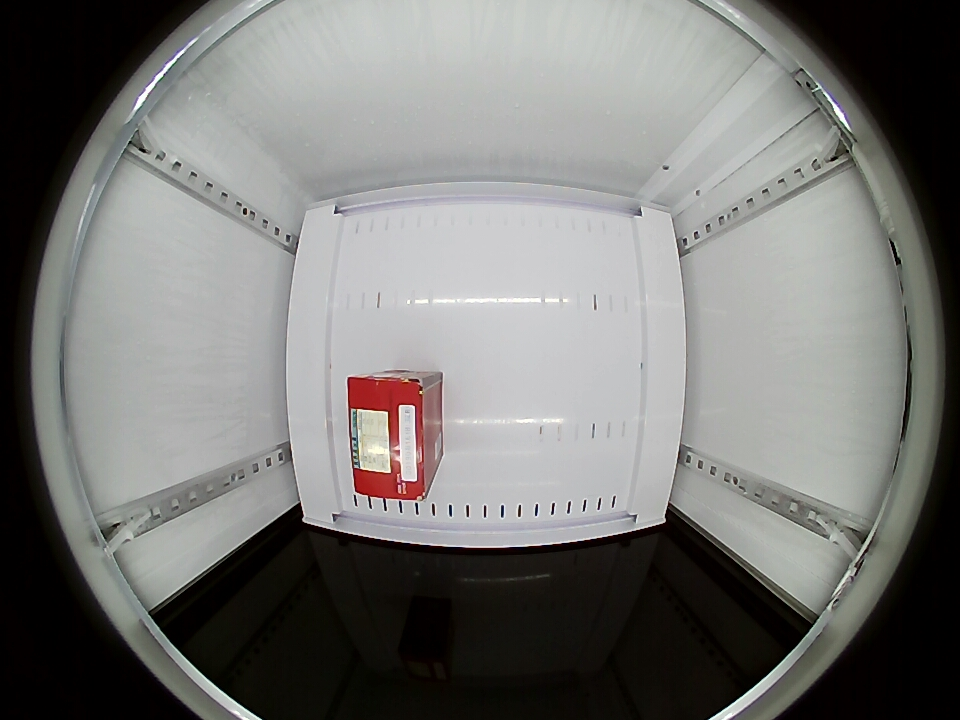haoliyou: (348, 371, 437, 500)
